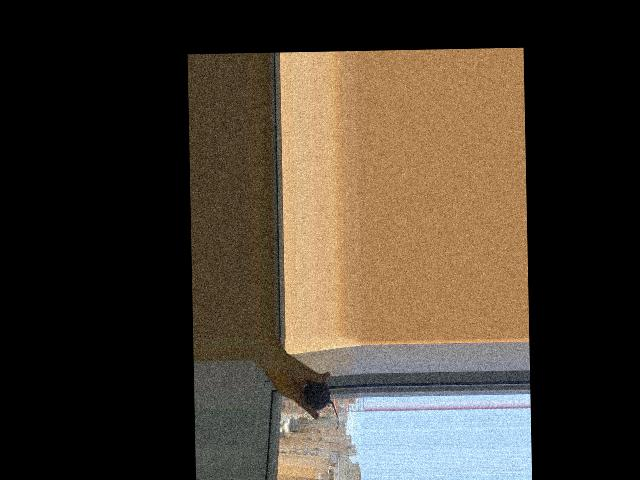beet: (303, 382, 338, 433)
